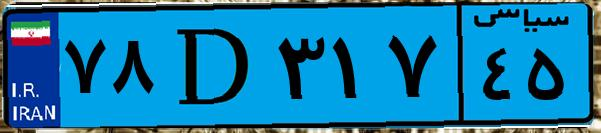1: (330, 28, 385, 110)
3: (270, 28, 330, 110)
4: (475, 38, 525, 113)
5: (525, 38, 570, 115)
7: (385, 28, 445, 110), (57, 26, 110, 100)
8: (110, 28, 158, 98)
D: (158, 12, 270, 120)
